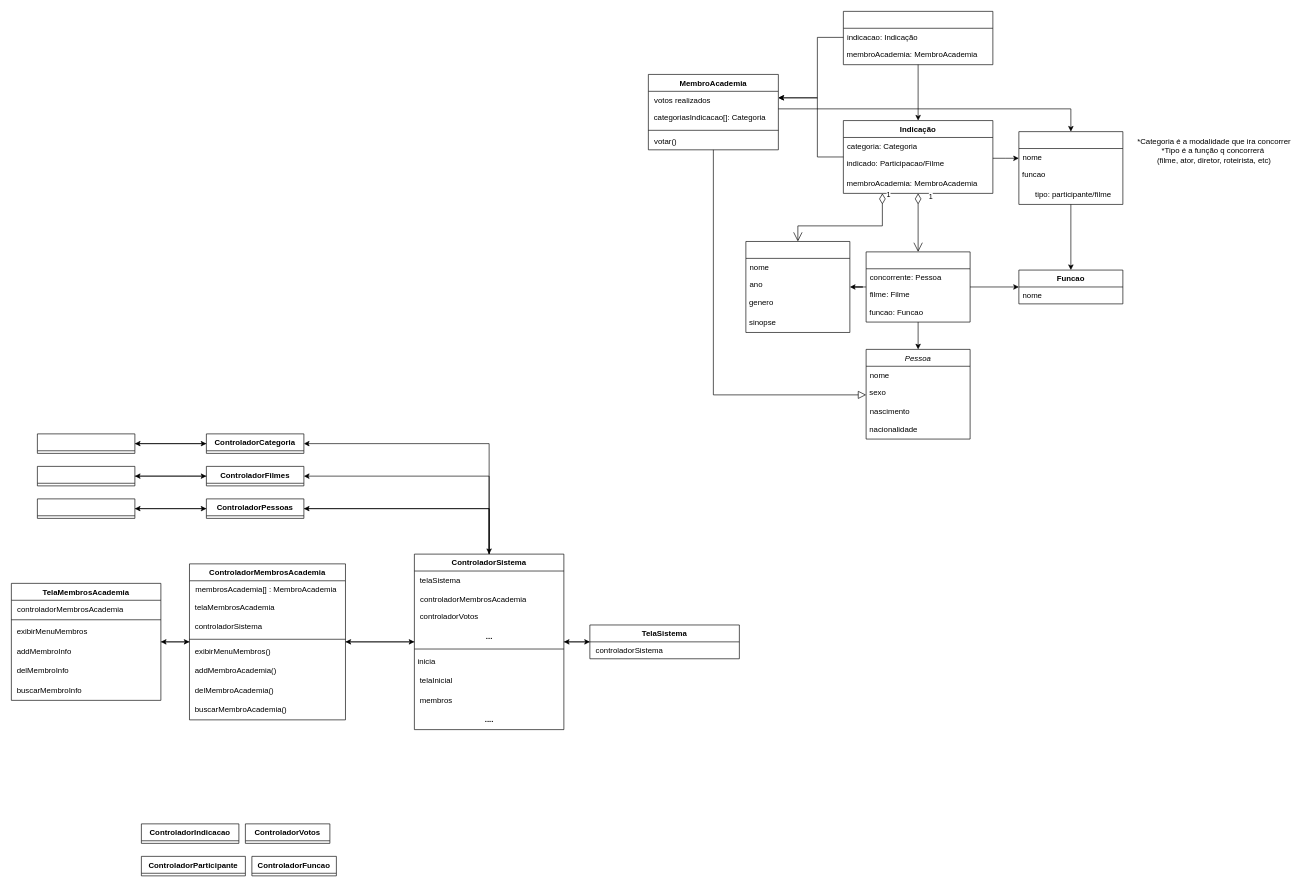
The diagram is 1310 pixels wide and 887 high, and some of its shapes have lost their labels. Each missing label, with the box of its shape:
Categoria: (1018, 131, 1123, 204)
Filme: (745, 241, 850, 332)
Participante: (865, 251, 970, 322)
TelaCategoria: (37, 433, 135, 453)
TelaFilme: (37, 466, 135, 486)
TelaPessoas: (37, 498, 135, 518)
Voto: (843, 11, 993, 65)
